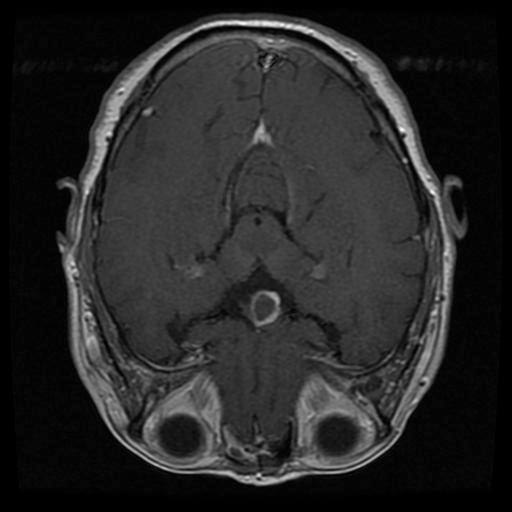Tumour-Pituitary: (243, 291, 283, 328)
